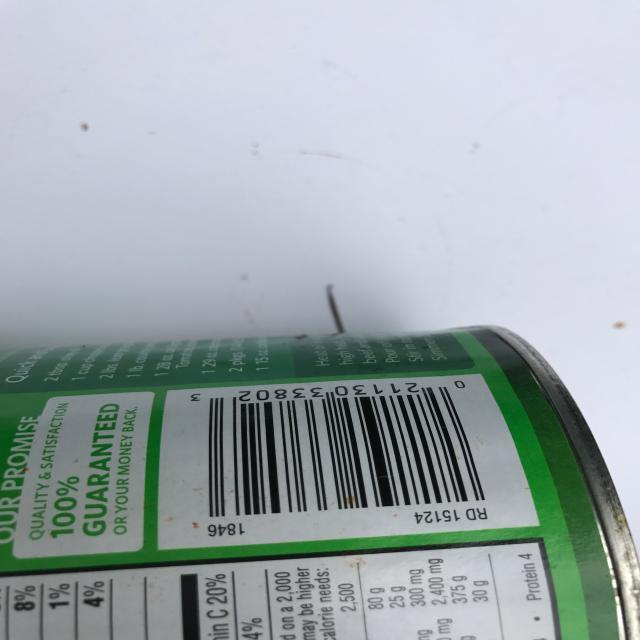metal: (1, 326, 640, 640)
